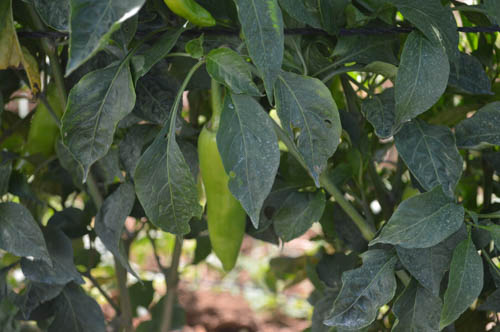ChiliPepper: (196, 127, 249, 276)
